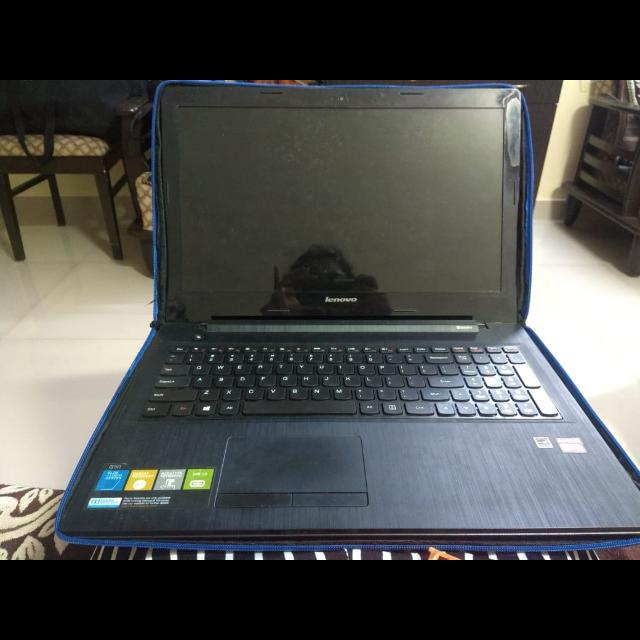Laptop: (49, 80, 639, 556)
